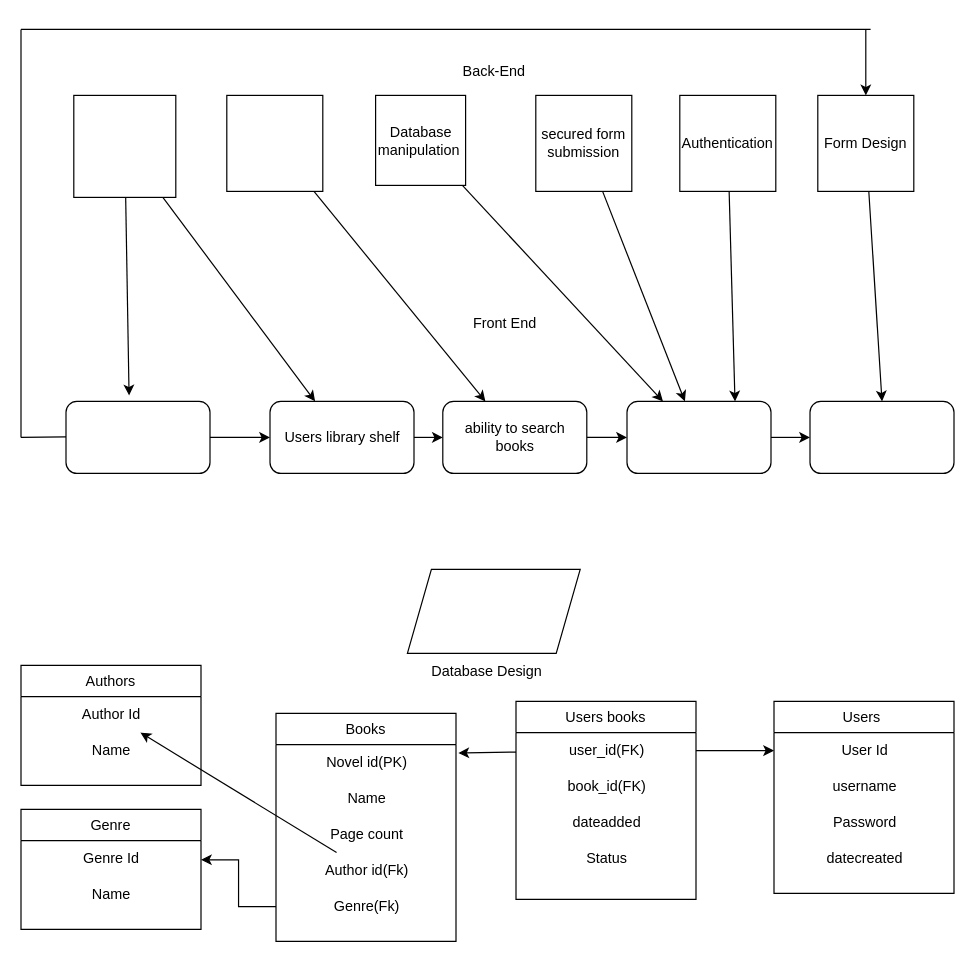
Image size: 976x962. Some labels were removed from this diagram. Each missing label, with the centre of its shape:
Book routes: the point at 274,142
Crud features: the point at 698,436
Notion Integration?: the point at 493,610
User login: the point at 137,436
User logout: the point at 881,436
Users routes: the point at 124,145
